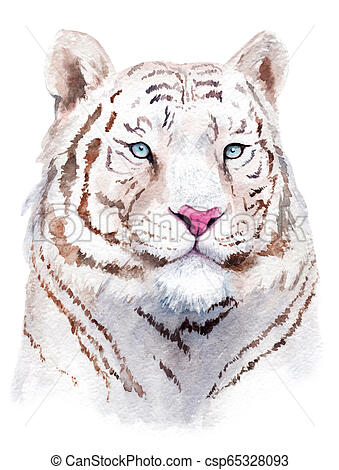Tigrew: (25, 19, 336, 409)
